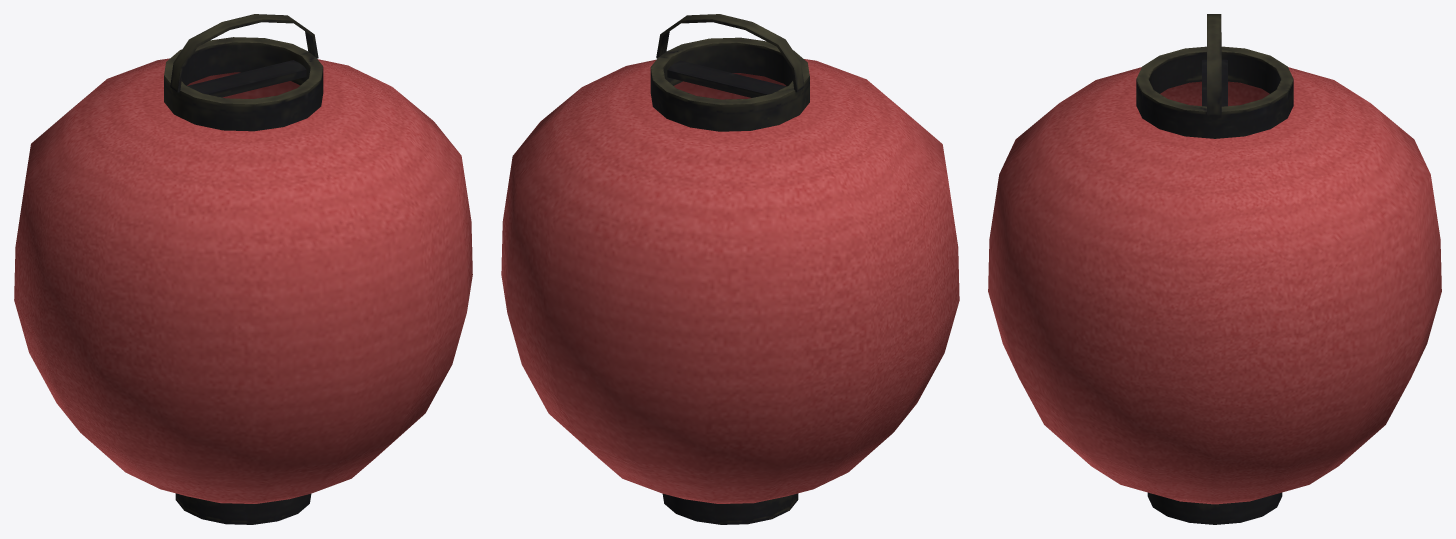
The model's file is Lamp_Chouchin_03.fbx.
3 views of the same model, side by side, from view 1: azimuth 30°, elevation 25°; view 2: azimuth 150°, elevation 25°; view 3: azimuth 270°, elevation 25° (orthographic).
Parts seen in each view (by area): view 1: Lamp_Chouchin_03_LOD0, Lamp_Chouchin_03; view 2: Lamp_Chouchin_03, Lamp_Chouchin_03_LOD0; view 3: Lamp_Chouchin_03, Lamp_Chouchin_03_LOD0.
Part boxes in pixels (box(x1,y1,x2,y2)): Lamp_Chouchin_03_LOD0: box(34, 14, 472, 524); Lamp_Chouchin_03: box(14, 14, 454, 510); Lamp_Chouchin_03: box(501, 14, 958, 524); Lamp_Chouchin_03_LOD0: box(553, 14, 959, 510); Lamp_Chouchin_03: box(1040, 14, 1441, 524); Lamp_Chouchin_03_LOD0: box(988, 14, 1441, 524).
Size of what is drawn, in the model's own units: 0.3187 by 0.362 by 0.3187.
